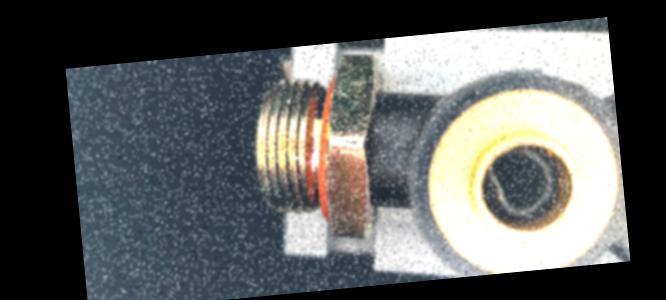off-centered: (484, 139, 566, 225)
white mark: (380, 155, 401, 178)
